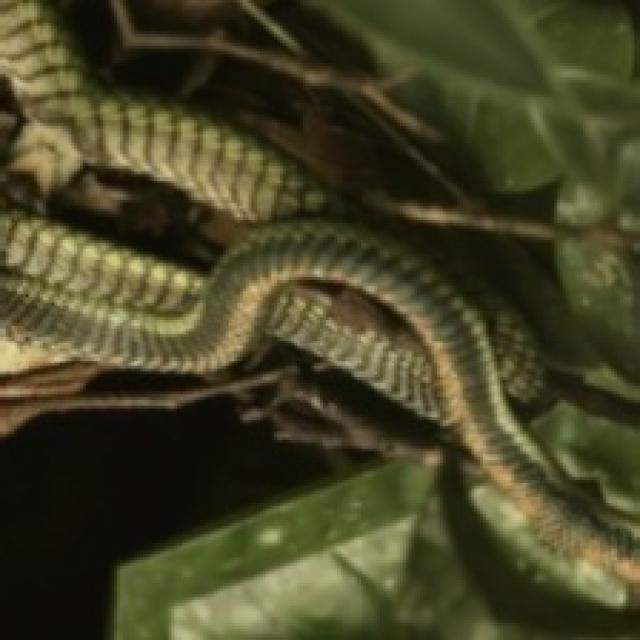paradise tree snake: (0, 0, 637, 637), (237, 0, 514, 226)
